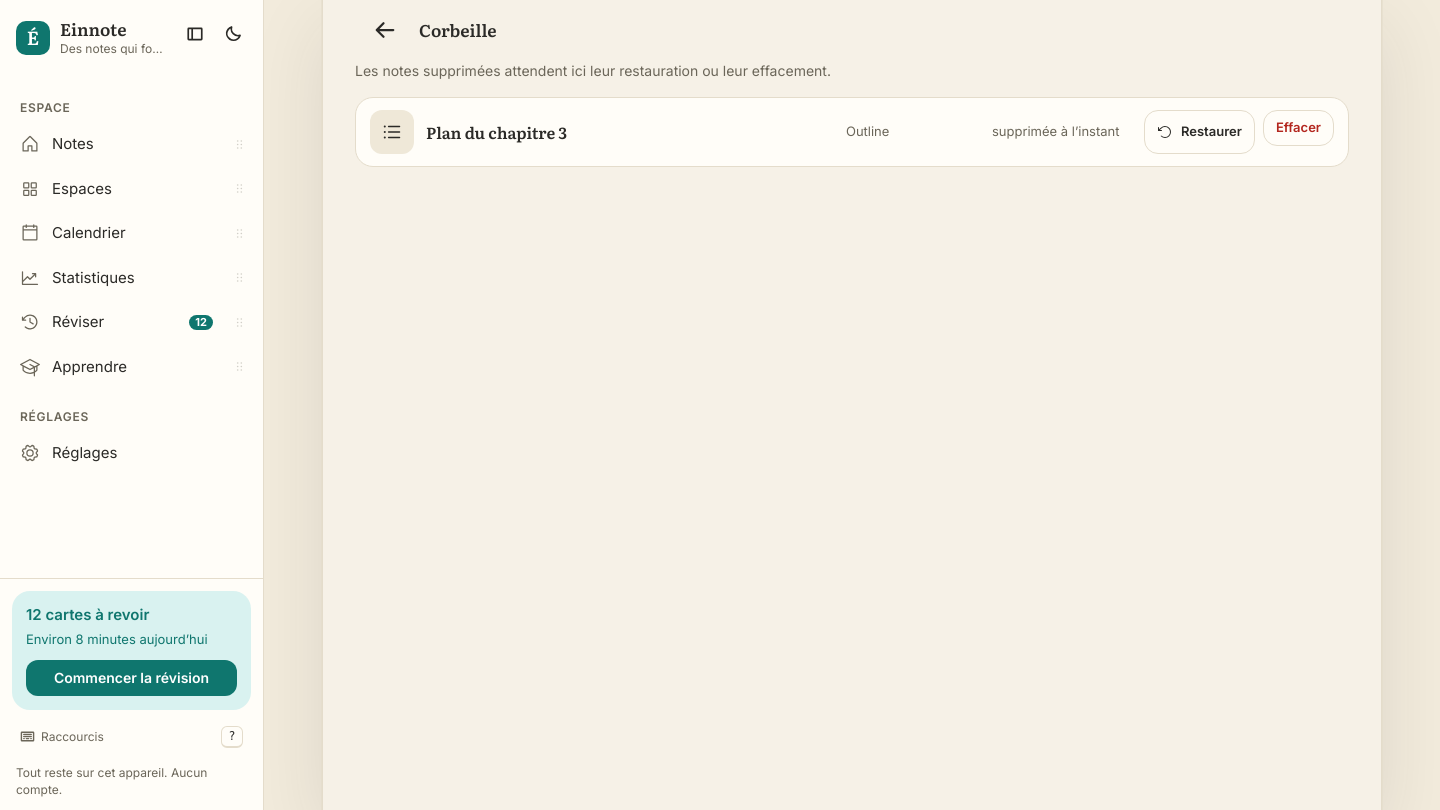
Scenario: La corbeille › restaure une note d’un geste
Click the button "Restaurer". click: (1199, 132)
box: [1144, 110, 1255, 154]
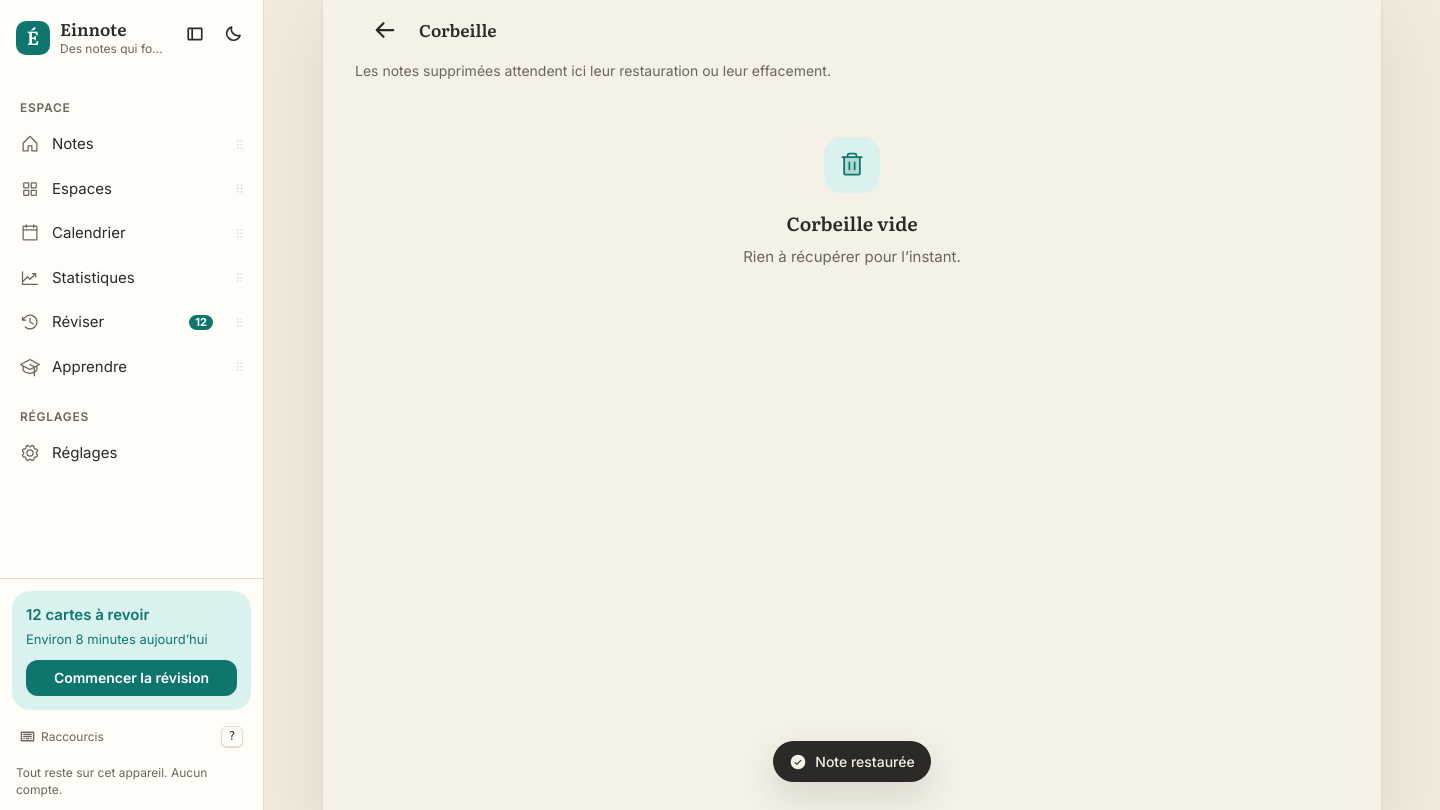
Now the heading "Corbeille vide" is shown, box [786, 209, 918, 238]
